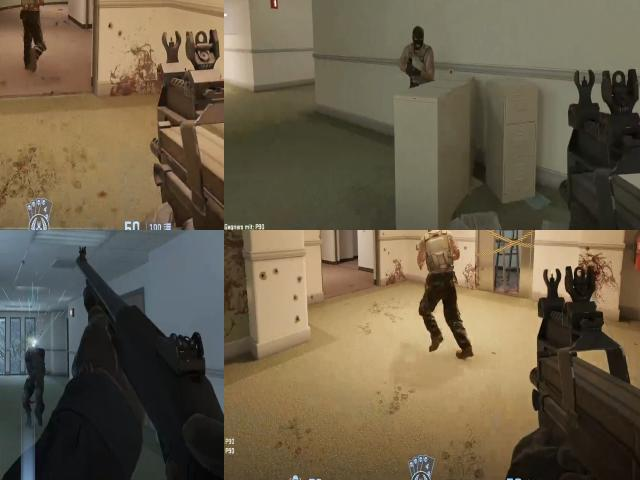CT: (22, 336, 48, 424)
T: (411, 230, 462, 287), (403, 23, 434, 82), (408, 23, 428, 51), (16, 0, 47, 17)
